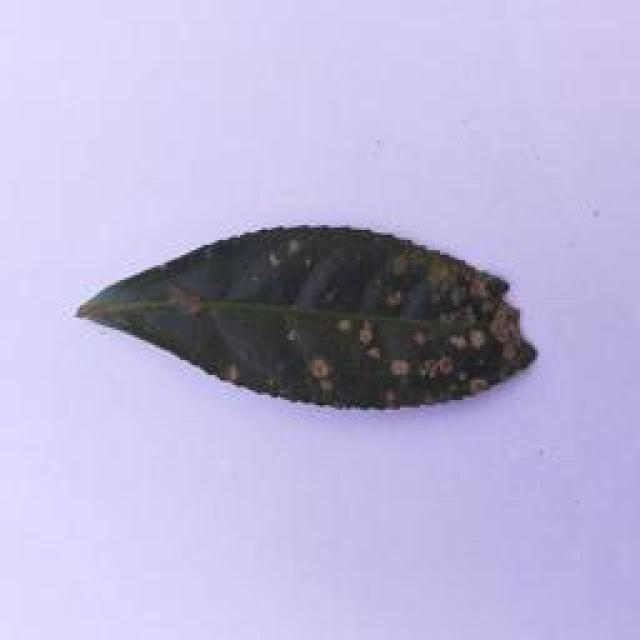Algal Leaf Spot: (72, 216, 547, 424)
